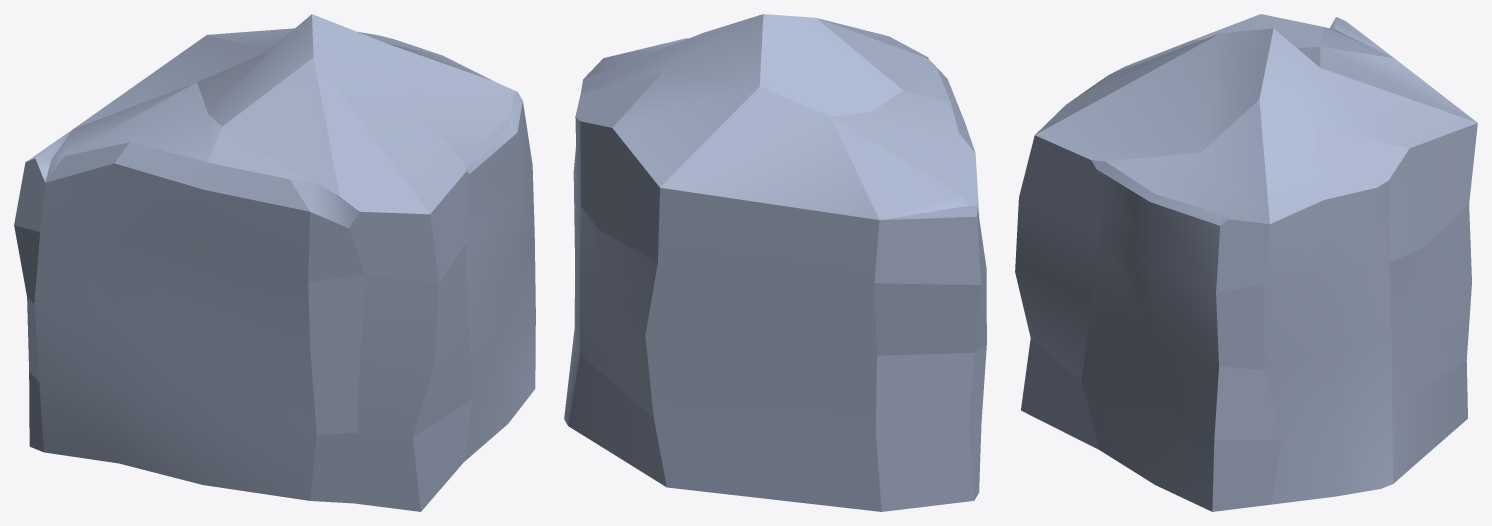
The model's file is MAIN ISLAND TERRAIN8.fbx.
3 renders of one model, left to right at view 1: azimuth 30°, elevation 25°; view 2: azimuth 150°, elevation 25°; view 3: azimuth 270°, elevation 25°, orthographic. The views are drawn at different scales.
Parts seen in each view (by area): view 1: MainIslandTerrain.006; view 2: MainIslandTerrain.006; view 3: MainIslandTerrain.006.
Part boxes in pixels (bbox=[...]): MainIslandTerrain.006: bbox=[14, 14, 535, 511]; MainIslandTerrain.006: bbox=[564, 14, 986, 511]; MainIslandTerrain.006: bbox=[1015, 14, 1477, 511].
Size of the model in its own units: 3959 by 3335 by 3573.
